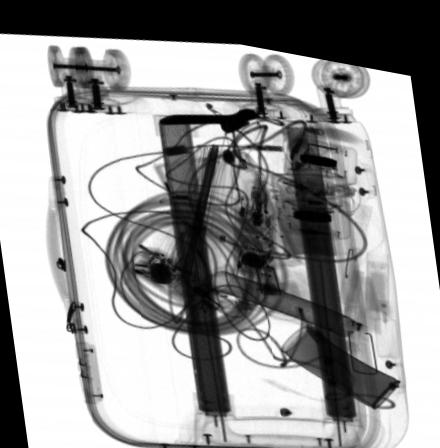Wrench: (158, 98, 262, 125)
